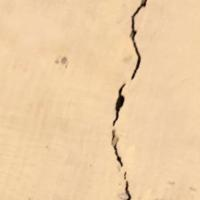crack: (81, 0, 156, 199)
